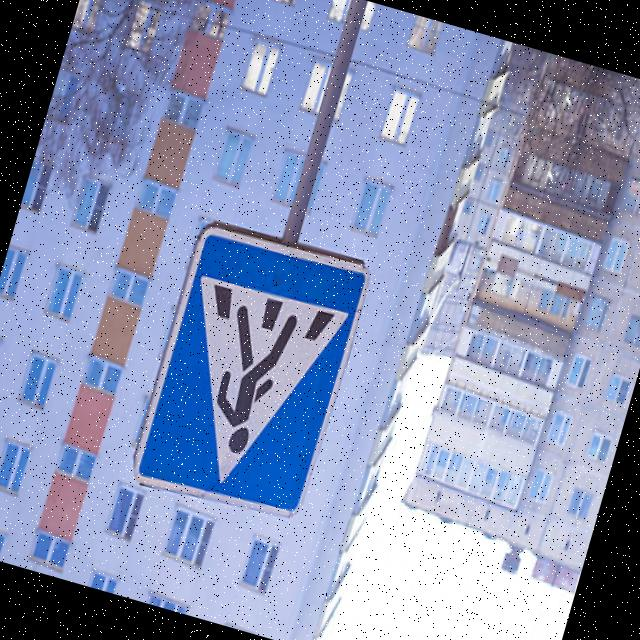crosswalk: (122, 207, 380, 538)
